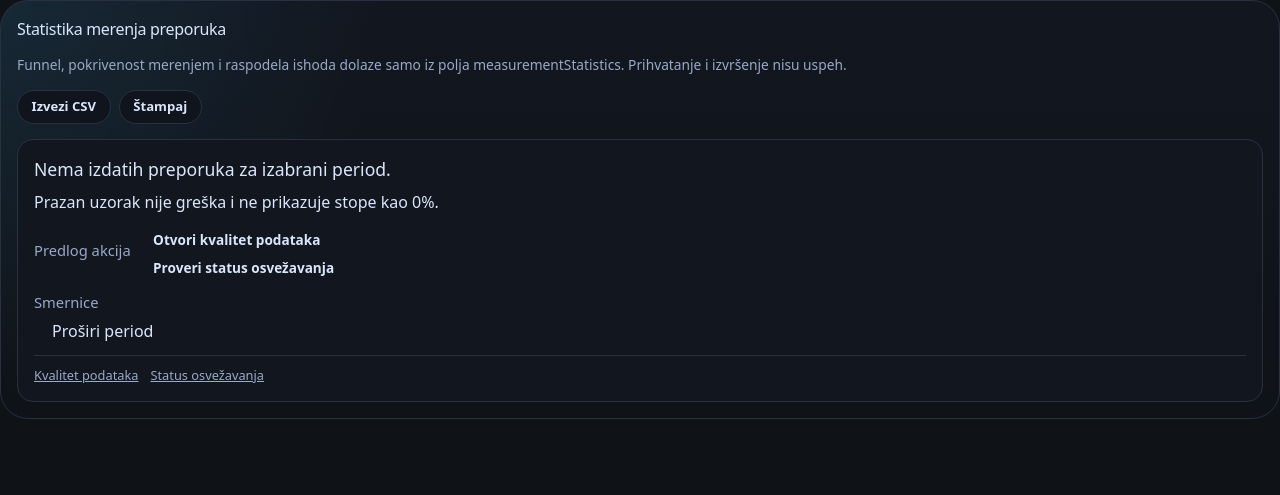
Test case: RecommendationMeasurementStatisticsReview › fails export gracefully without writing a zeros CSV
The image size is (1280, 495).
Click the button "Izvezi CSV".
click(64, 107)  # box [17,90,111,124]
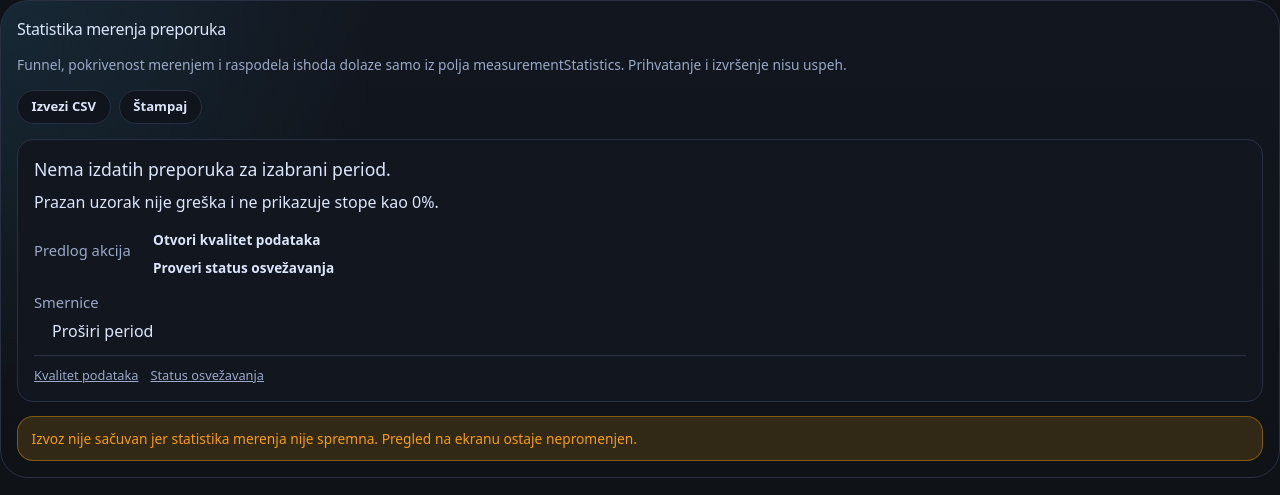
Expected: the heading "Nema izdatih preporuka za izabrani period." is shown, [34,157,391,181]
Result: the text "Izvoz nije sačuvan" is shown at [32,429,637,448]
